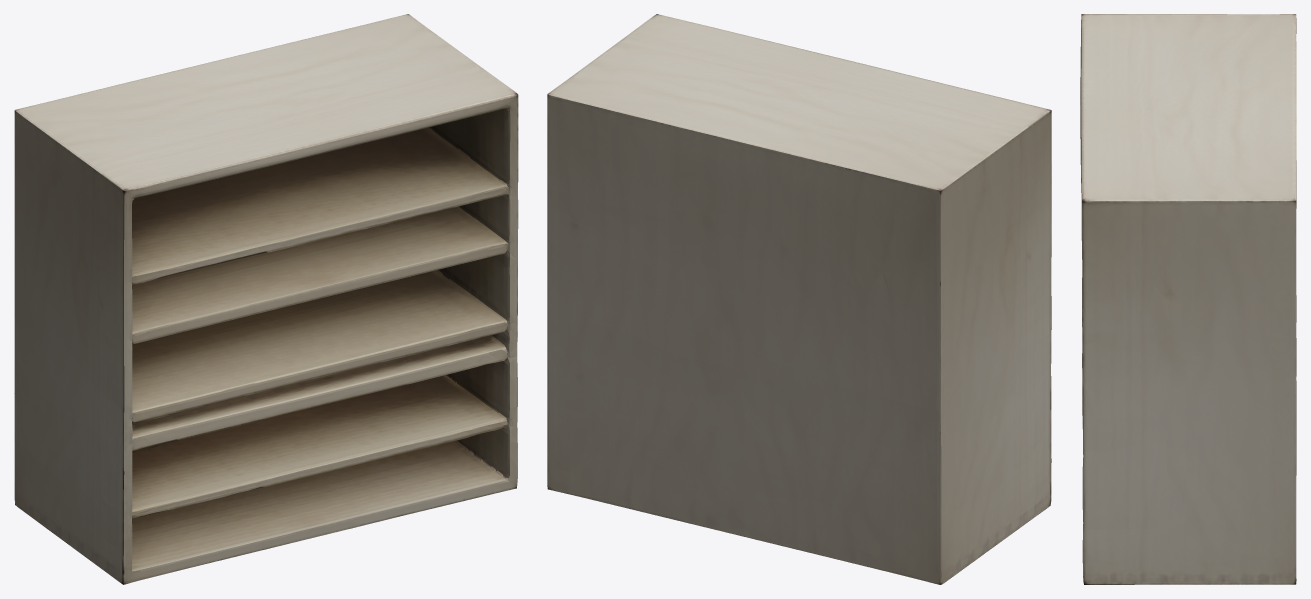
Rendered from cupboard.glb.
The picture shows the model from 3 angles, left to right: view 1: azimuth 30°, elevation 25°; view 2: azimuth 150°, elevation 25°; view 3: azimuth 270°, elevation 25°; orthographic projection. The views are drawn at different scales.
Parts seen in each view (by area): view 1: world; view 2: world; view 3: world.
Part boxes in pixels (left/top/right/bottom): world: left=14, top=14, right=518, bottom=584; world: left=547, top=14, right=1051, bottom=584; world: left=1080, top=14, right=1296, bottom=584.
Bounding box in the file's own units: 0.4968 × 0.4752 × 0.242.
Materials: 1 (1 with a texture image).
